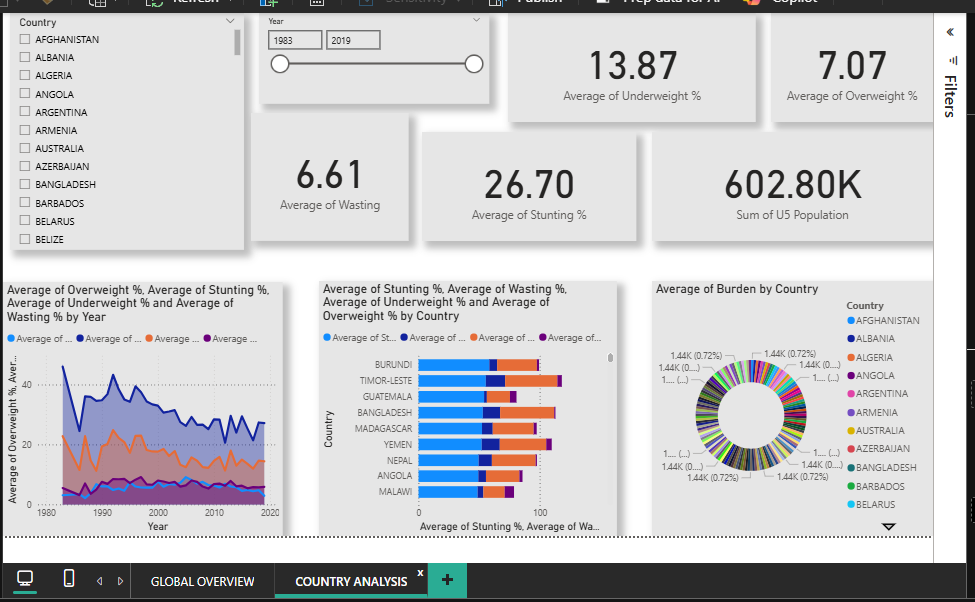

Layout of this report page (visuals, bound fields, positions):
{"tool":"powerbi","page":{"name":"COUNTRY ANALYSIS","canvas":[1280,720],"ordinal":1},"visuals":[{"type":"slicer","fields":{"Values":["malnutrition-estimates.Country"]},"box":[9.6,0,322.1,326.2],"z":0},{"type":"slicer","fields":{"Values":["malnutrition-estimates.Year"]},"box":[352.3,0,316.6,125.2],"z":1},{"type":"card","fields":{"Values":["Avg(country-wise-average.Underweight %)"]},"box":[695.1,0,341.3,150],"z":2},{"type":"card","fields":{"Values":["Avg(country-wise-average.Wasting)"]},"box":[341.3,137.6,217.5,176.2],"z":3},{"type":"card","fields":{"Values":["Avg(country-wise-average.Stunting %)"]},"box":[576.7,163.8,294.5,150],"z":4},{"type":"card","fields":{"Values":["Avg(country-wise-average.Overweight %)"]},"box":[1057,0,223,150],"z":5},{"type":"card","fields":{"Values":["Sum(country-wise-average.U5 Population)"]},"box":[893.2,163.8,386.8,150],"z":6},{"type":"lineChart","fields":{"Category":["malnutrition-estimates.Year"],"Y":["Avg(malnutrition-estimates.Overweight %)","Avg(malnutrition-estimates.Stunting %)","Avg(malnutrition-estimates.Underweight %)","Avg(malnutrition-estimates.Wasting %)"]},"box":[0,370.2,385.4,349.6],"z":7},{"type":"barChart","fields":{"Y":["Avg(malnutrition-estimates.Stunting %)","Avg(malnutrition-estimates.Wasting %)","Avg(malnutrition-estimates.Underweight %)","Avg(malnutrition-estimates.Overweight %)"],"Category":["malnutrition-estimates.Country"]},"box":[434.9,368.9,410.2,351],"z":8},{"type":"donutChart","fields":{"Category":["malnutrition-estimates.Country"],"Y":["Avg(country-wise-average.Burden)"]},"box":[893.2,368.9,386.8,351],"z":9}]}

Visuals, with their boxes on the page's 1280x720 design canvas (x1, y1, x2, y2). These are canvas units, not pixel positions in the 975x602 screenshot, which may show the page scaled, cropped or inside an application window:
slicer - malnutrition-estimates.Country: [10, 0, 332, 326]
slicer - malnutrition-estimates.Year: [352, 0, 669, 125]
card - Avg(country-wise-average.Underweight %): [695, 0, 1036, 150]
card - Avg(country-wise-average.Wasting): [341, 138, 559, 314]
card - Avg(country-wise-average.Stunting %): [577, 164, 871, 314]
card - Avg(country-wise-average.Overweight %): [1057, 0, 1280, 150]
card - Sum(country-wise-average.U5 Population): [893, 164, 1280, 314]
lineChart - malnutrition-estimates.Year x Avg(malnutrition-estimates.Overweight %): [0, 370, 385, 720]
barChart - Avg(malnutrition-estimates.Stunting %) x Avg(malnutrition-estimates.Wasting %): [435, 369, 845, 720]
donutChart - malnutrition-estimates.Country x Avg(country-wise-average.Burden): [893, 369, 1280, 720]
